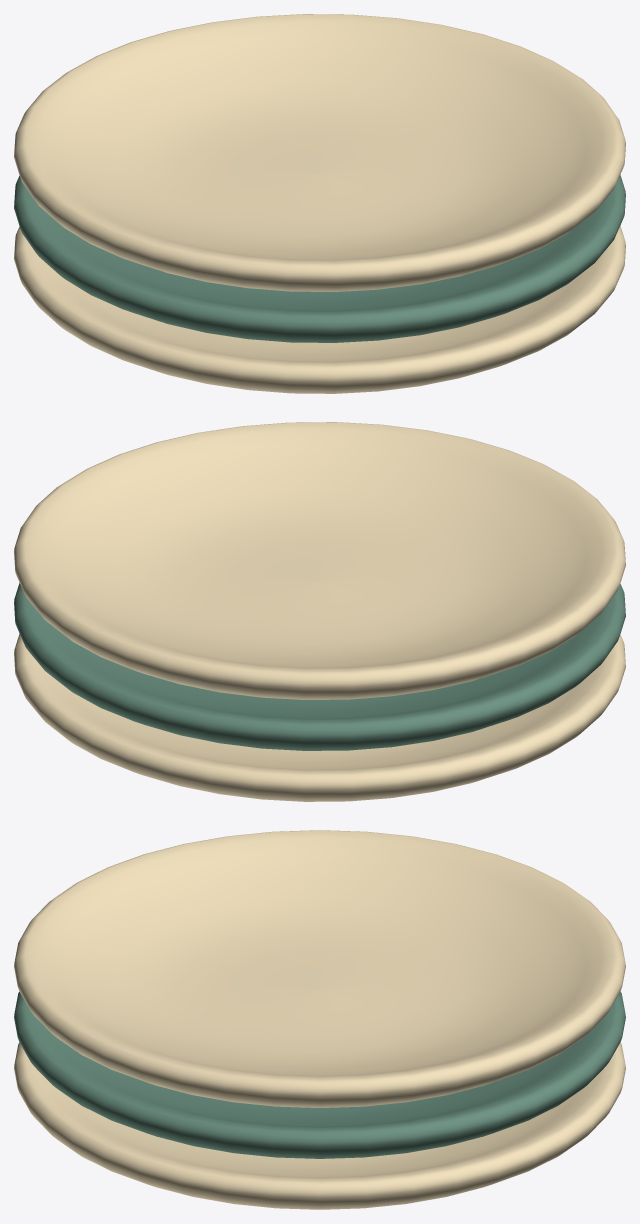
The model's file is plate-stack-426.glb.
3 views of the same model, one above another, from view 1: azimuth 30°, elevation 25°; view 2: azimuth 150°, elevation 25°; view 3: azimuth 270°, elevation 25° (orthographic).
Visible parts, largest first — view 1: cream, sage; view 2: cream, sage; view 3: cream, sage.
Part boxes in pixels (box(x1,y1,x2,y2)): cream: box(14, 14, 625, 393); sage: box(14, 175, 625, 342); cream: box(14, 422, 625, 801); sage: box(14, 583, 625, 750); cream: box(14, 830, 625, 1209); sage: box(14, 991, 625, 1158).
Bounding box in the file's own units: 2.4 × 0.7047 × 2.4.
